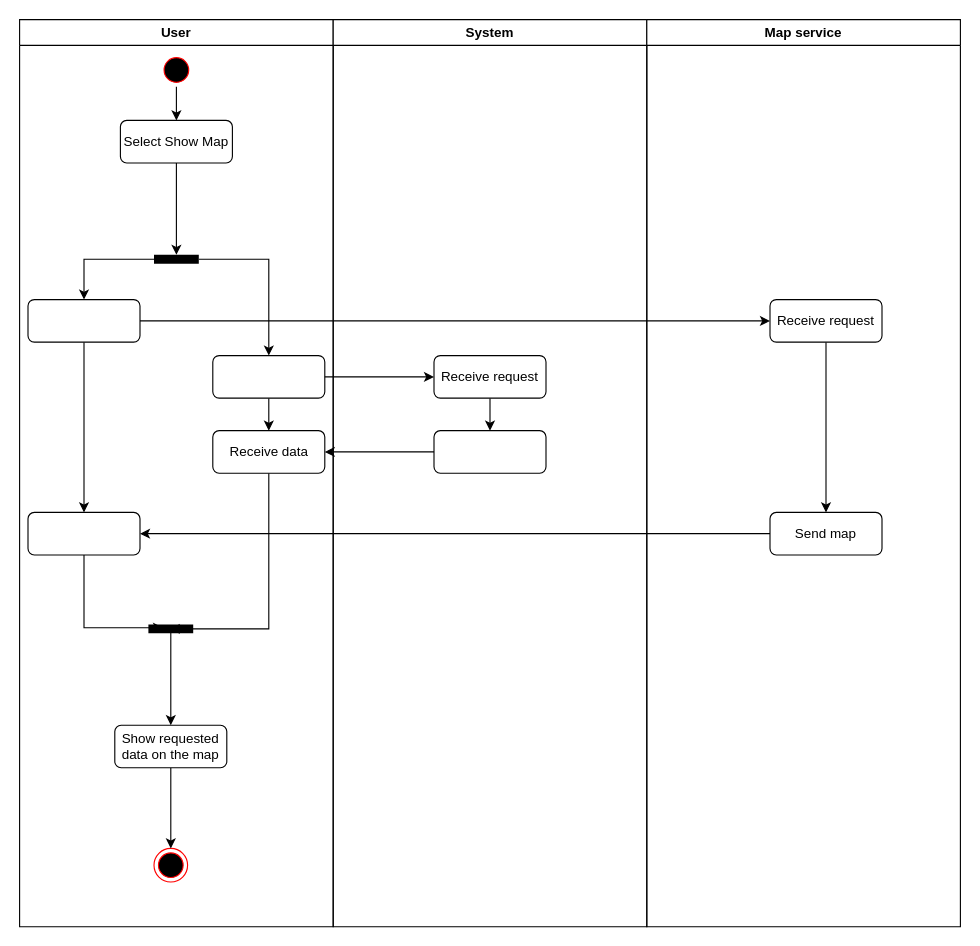
The diagram is 980 pixels wide and 946 high, and some of its shapes have lost their labels. The shapes that lost their labels are listed below. From the top down, each one's centre as x and y in pixels, then its label:
point 83,320: Send request for map
point 268,376: Send request for data
point 489,451: Gather data
point 83,533: Render map
